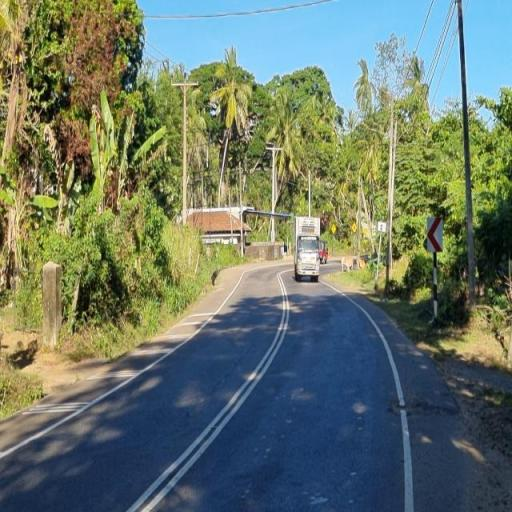double_white_line: (128, 270, 294, 512)
